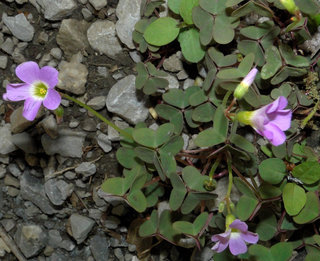oxalis: (109, 20, 288, 261)
